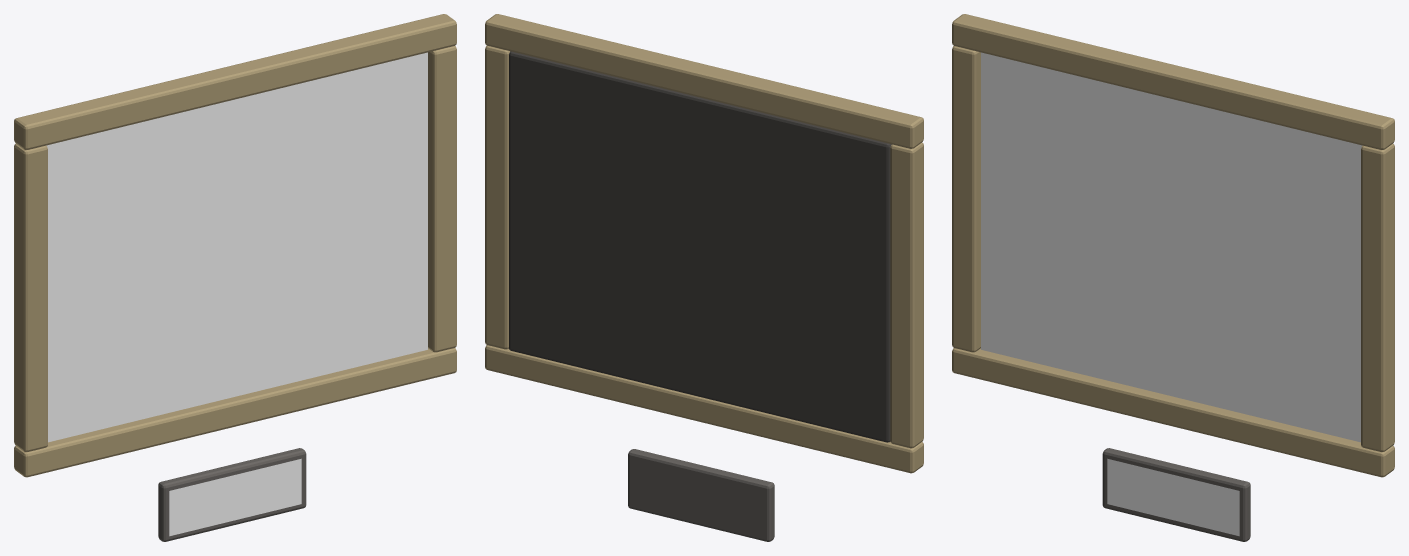
File: art_frame.glb
3 renders of one model, left to right at view 1: azimuth 30°, elevation 25°; view 2: azimuth 150°, elevation 25°; view 3: azimuth 330°, elevation 25°, orthographic.
Visible parts, largest first — view 1: Frame_Canvas, Frame_Moulding_Top, Frame_Moulding_Bottom, Frame_Moulding_Left, Frame_Moulding_Right, Frame_Placard, Frame_PlacardPlate; view 2: Frame_Backing, Frame_Moulding_Top, Frame_Moulding_Bottom, Frame_Moulding_Left, Frame_PlacardPlate, Frame_Moulding_Right; view 3: Frame_Canvas, Frame_Moulding_Top, Frame_Moulding_Bottom, Frame_Moulding_Right, Frame_Moulding_Left, Frame_Placard, Frame_PlacardPlate.
Part boxes in pixels (x1,y1,x2,y2): Frame_Canvas: (46, 52, 427, 442); Frame_Moulding_Top: (14, 14, 456, 149); Frame_Moulding_Bottom: (14, 348, 456, 477); Frame_Moulding_Left: (14, 144, 47, 452); Frame_Moulding_Right: (428, 46, 456, 352); Frame_Placard: (169, 458, 301, 536); Frame_PlacardPlate: (158, 448, 306, 541); Frame_Backing: (509, 51, 891, 442); Frame_Moulding_Top: (485, 14, 923, 148); Frame_Moulding_Bottom: (485, 345, 923, 473); Frame_Moulding_Left: (890, 142, 923, 448); Frame_PlacardPlate: (628, 449, 774, 541); Frame_Moulding_Right: (485, 45, 509, 349); Frame_Canvas: (981, 52, 1362, 442); Frame_Moulding_Top: (952, 14, 1394, 149); Frame_Moulding_Bottom: (952, 348, 1394, 477); Frame_Moulding_Right: (1361, 144, 1394, 452); Frame_Moulding_Left: (952, 46, 980, 352); Frame_Placard: (1107, 458, 1239, 536); Frame_PlacardPlate: (1102, 448, 1250, 541).
Bounding box in the file's own units: 1.8 × 1.82 × 0.09.
